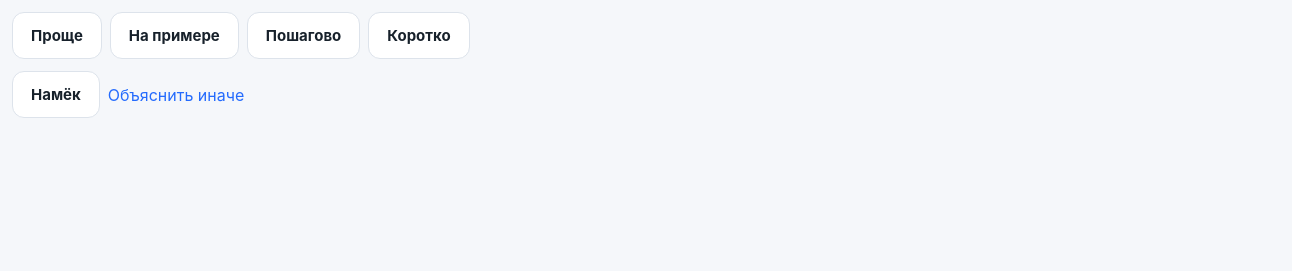
Test case: labels cloud output and never offers to send private answers to it
This screenshot has width=1292, height=271.
Click the button "Объяснить иначе": (176, 94) [108, 74, 244, 116]
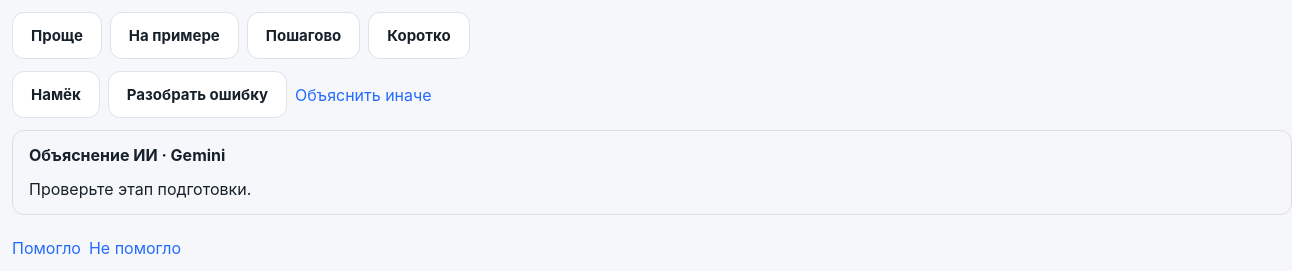
Expected: the text "Объяснение ИИ · Gemini" is shown, [29, 145, 225, 165]
